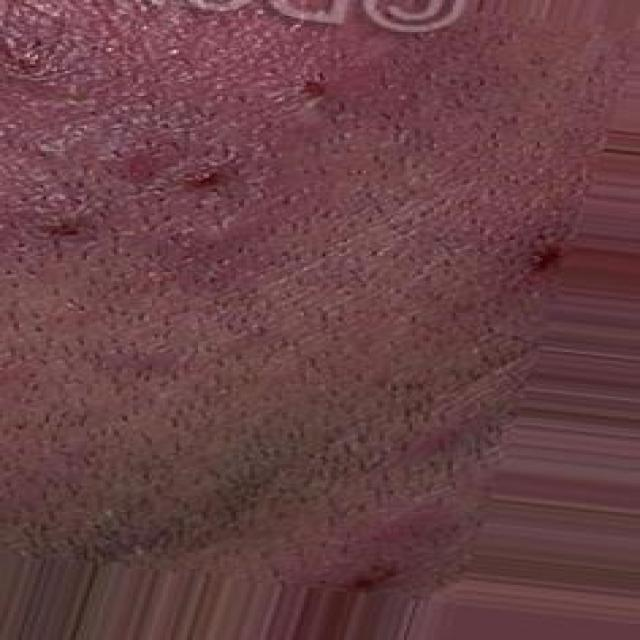Rosacea: (34, 36, 572, 283), (322, 416, 479, 592)
